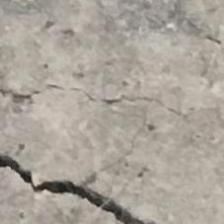Crack: (0, 149, 182, 224)
